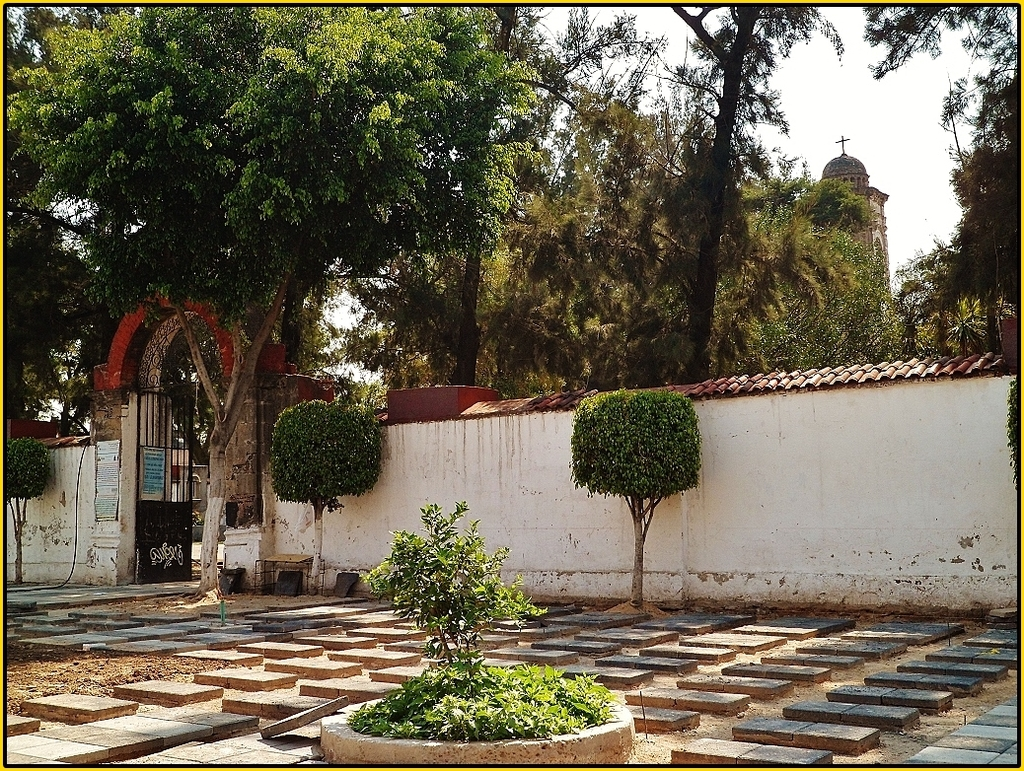Tree: (0, 2, 543, 612), (605, 0, 786, 384), (567, 397, 695, 595), (280, 398, 388, 601), (2, 442, 54, 573)
